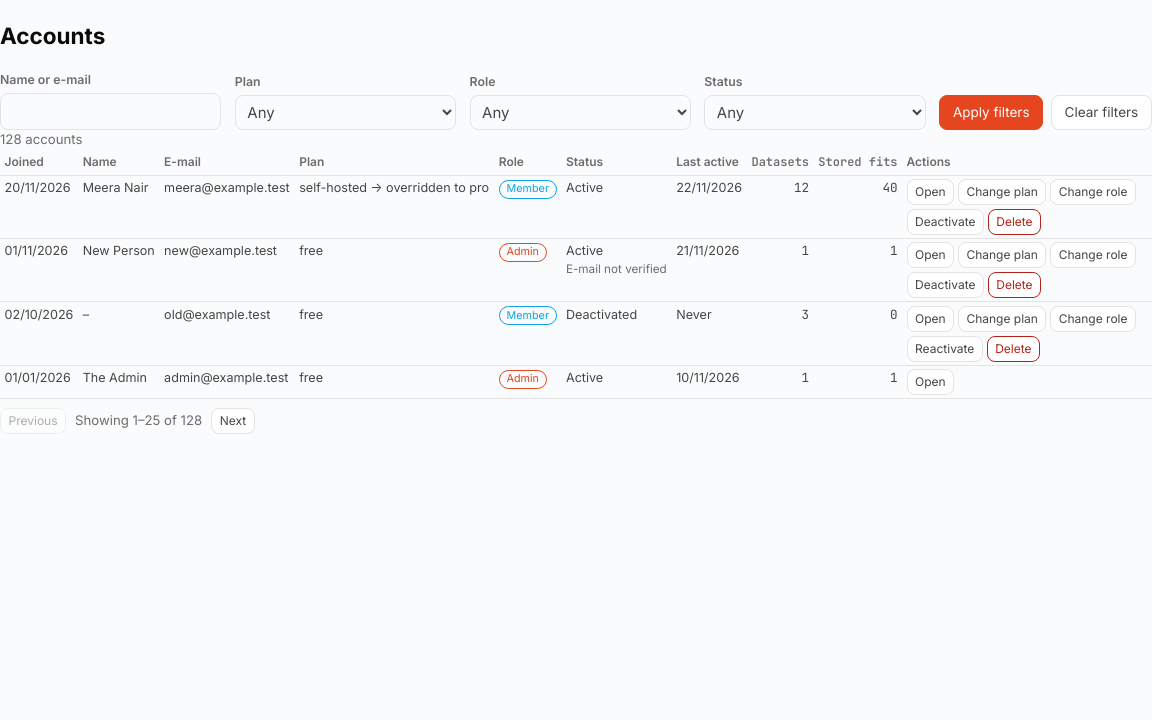
Scenario: UsersPage — changing an account › Change plan can clear an override, sent as null
The width and height of the screenshot is (1152, 720).
Expected: the table named "Accounts" is shown, left=0, top=150, right=1151, bottom=399
Click the button with aria-label "Change plan meera@example.test": click(1002, 192) left=958, top=179, right=1046, bottom=205
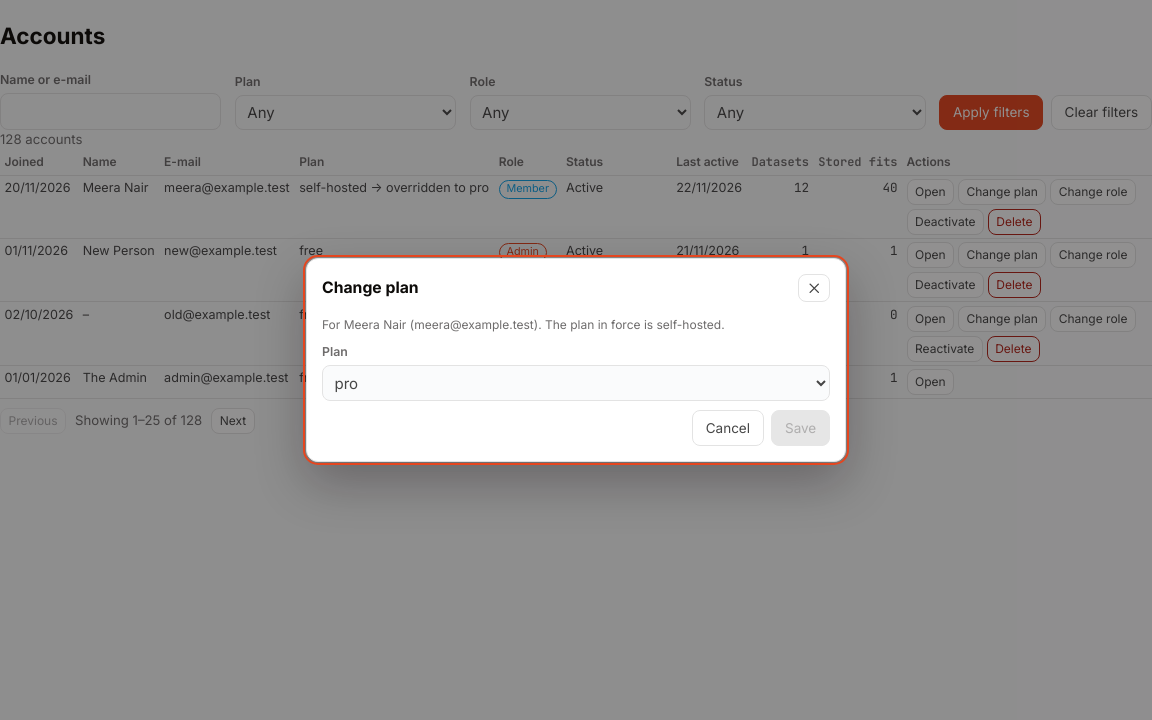
Select "Default plan (no override)" in the dropdown labelled "Plan": (576, 383) left=322, top=365, right=830, bottom=401
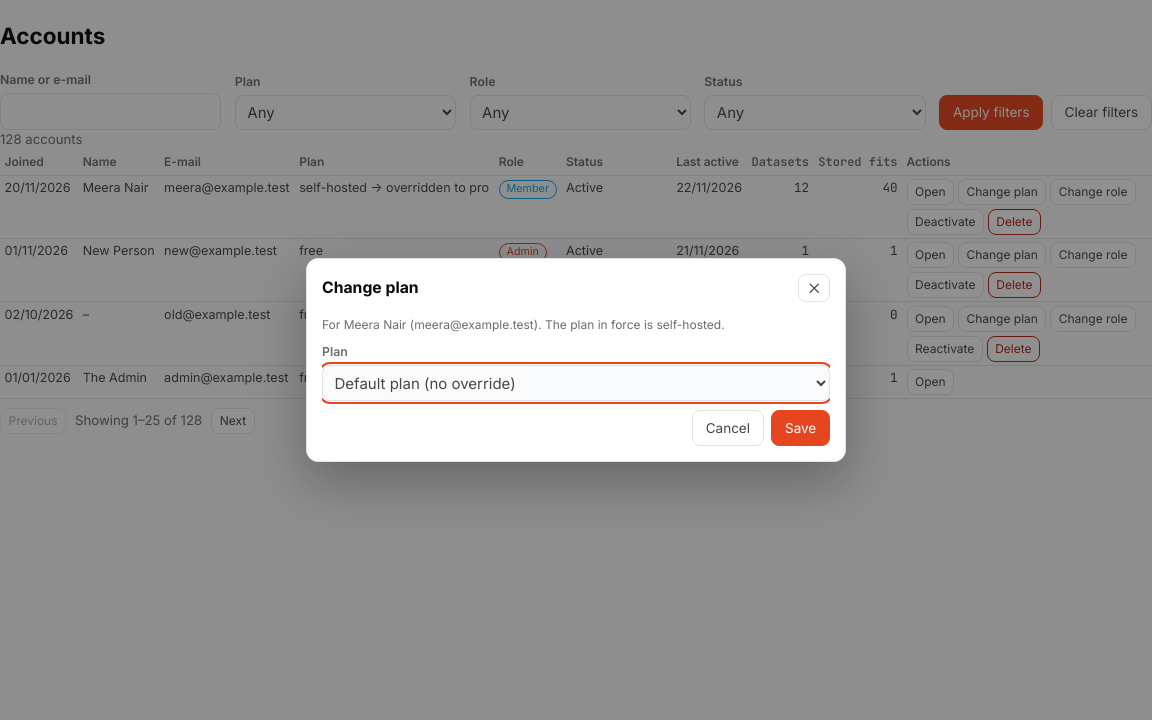
Click the button "Save": click(801, 428) left=771, top=410, right=830, bottom=446
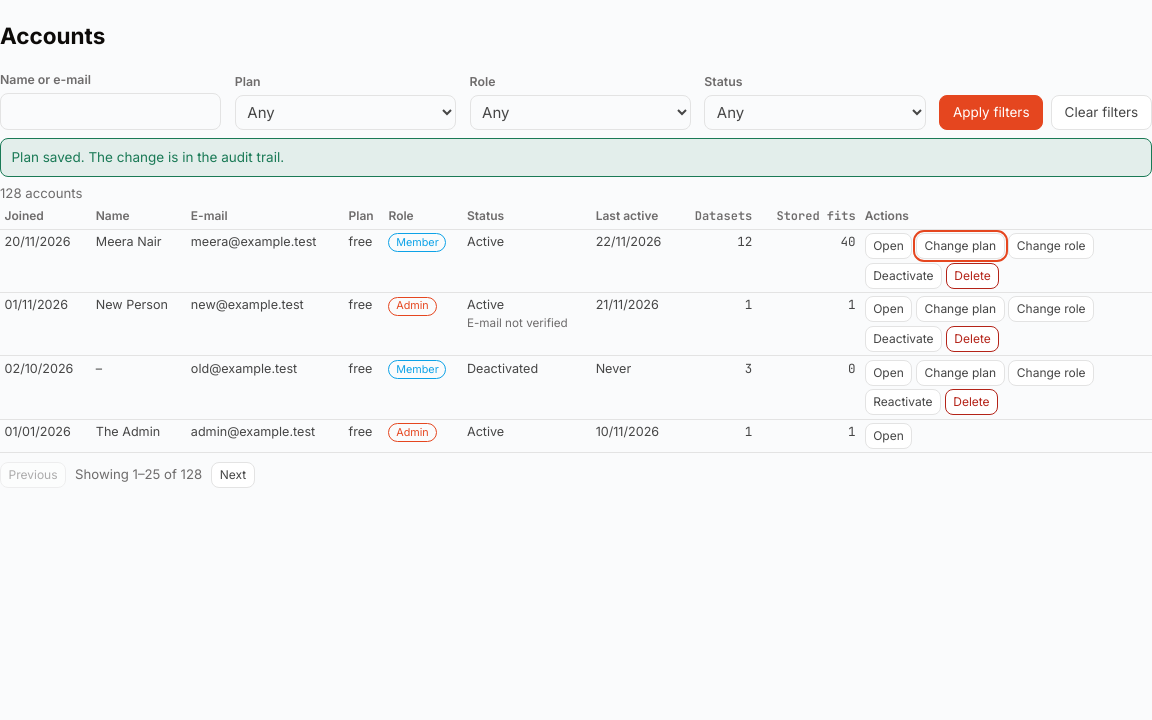
Result: the text "Plan saved. The change is in the audit trail." is shown at left=0, top=138, right=1151, bottom=177
